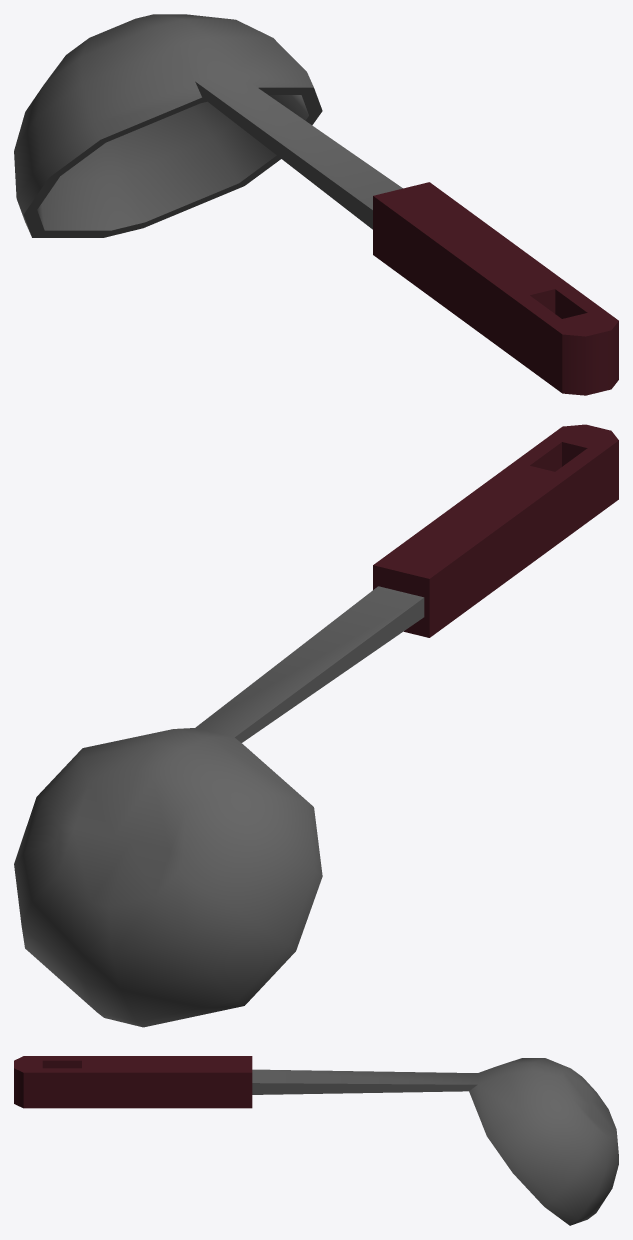
File: utensil_ladle.fbx
3 views of the same model, one above another, from view 1: azimuth 30°, elevation 25°; view 2: azimuth 150°, elevation 25°; view 3: azimuth 270°, elevation 25° (orthographic). The views are drawn at different scales.
Parts seen in each view (by area): view 1: ladle; view 2: ladle; view 3: ladle.
Part boxes in pixels (x1,y1,x2,y2): ladle: (14,14,618,395); ladle: (14,424,618,1027); ladle: (14,1056,618,1225).
Size of the model in its own units: 110 by 95.31 by 350.
